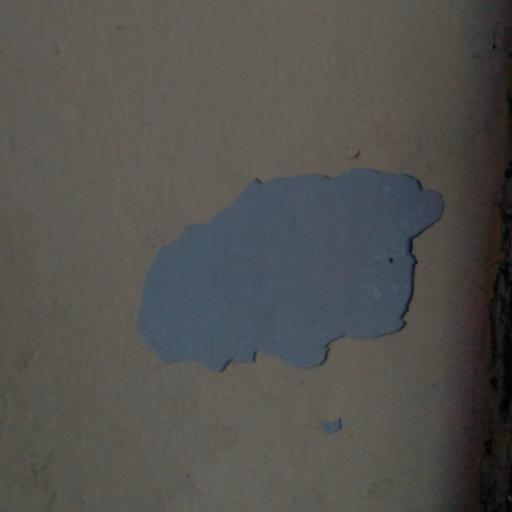peeling: (132, 116, 425, 393), (312, 399, 354, 432)
